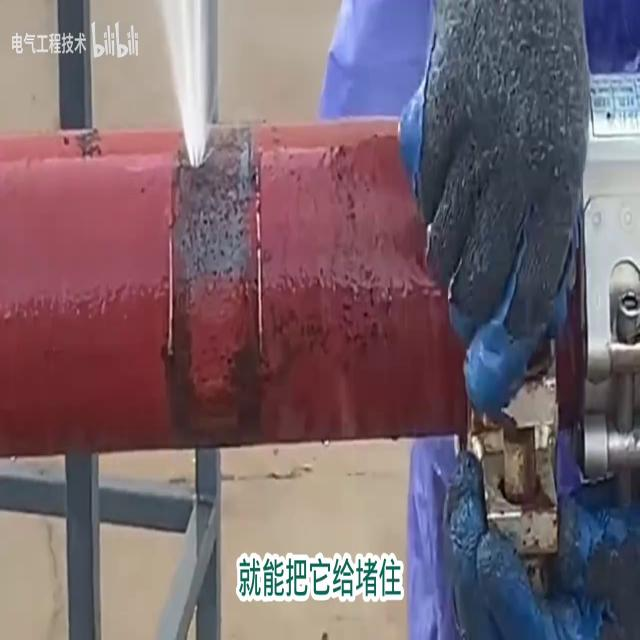leak: (160, 0, 212, 171)
